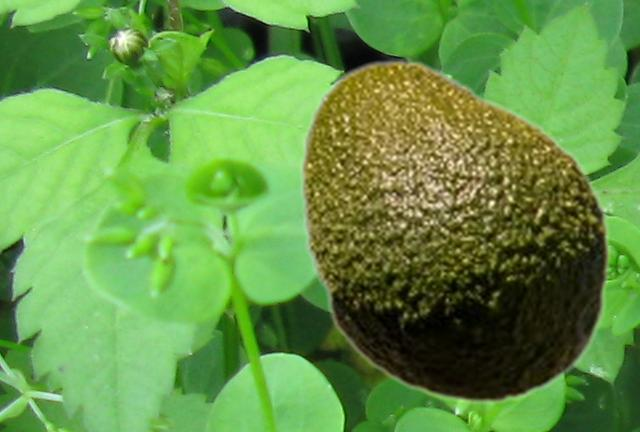avocado: (298, 58, 611, 405)
